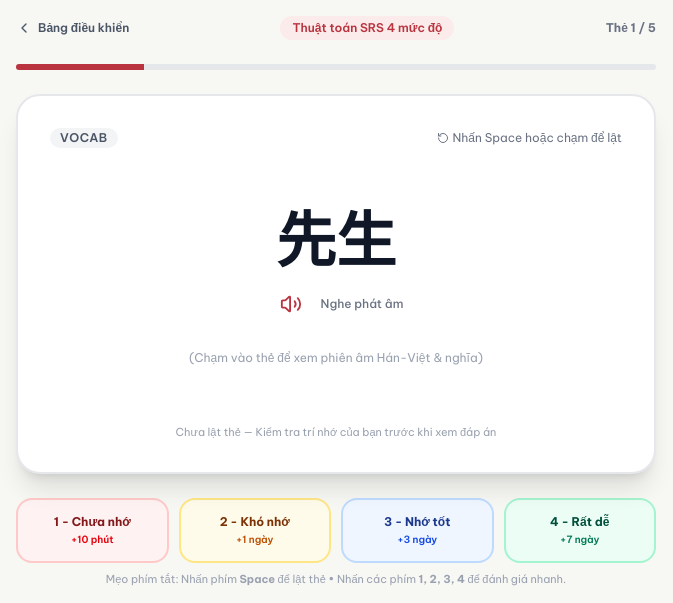
Scenario: FlashcardsReviewPage Component › renders front card and flips on click or Space key
The width and height of the screenshot is (673, 603).
Expected: the text "Nhấn Space hoặc chạm để lật" is shown, [436, 130, 622, 146]
# Click card to flip
Step 1. Click the button with aria-label "Nhấn để lật thẻ flashcard" → (54, 284), box [16, 94, 656, 474]
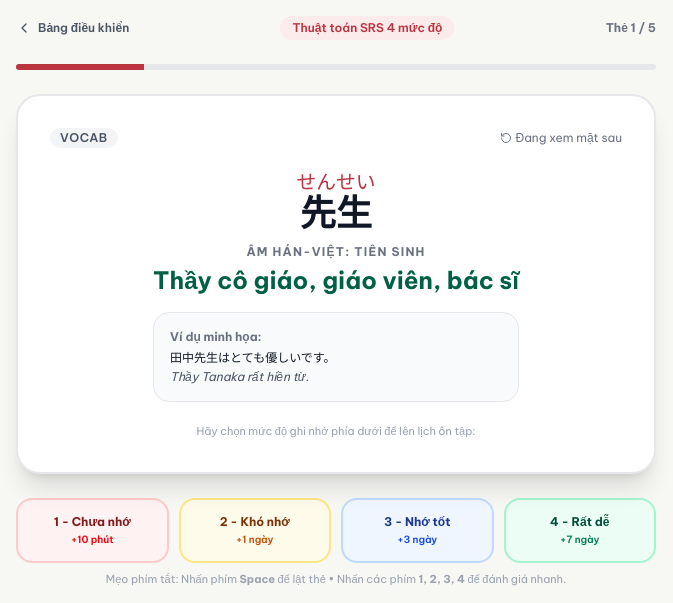
Expected: the text "Đang xem mặt sau" is shown, [500, 130, 622, 146]
Expected: the text "ÂM HÁN-VIỆT: TIÊN SINH" is shown, [246, 244, 426, 259]
# Space key flips it back
Step 2. Press Space
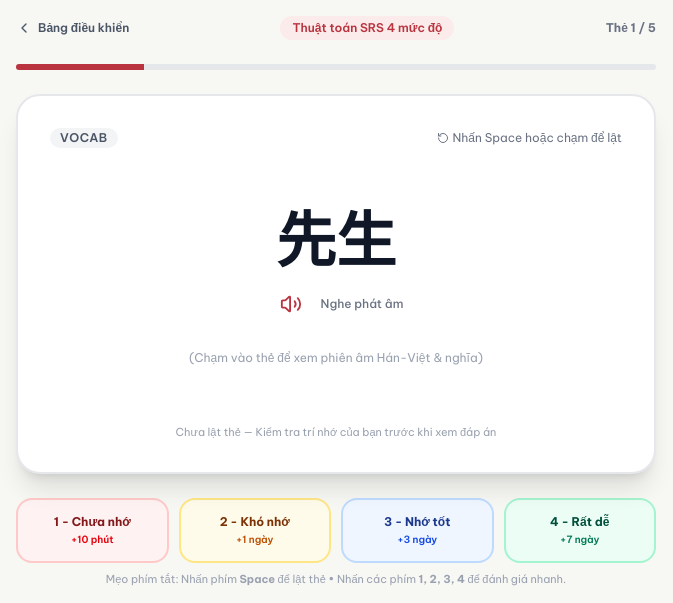
Expected: the text "Nhấn Space hoặc chạm để lật" is shown, [436, 130, 622, 146]
